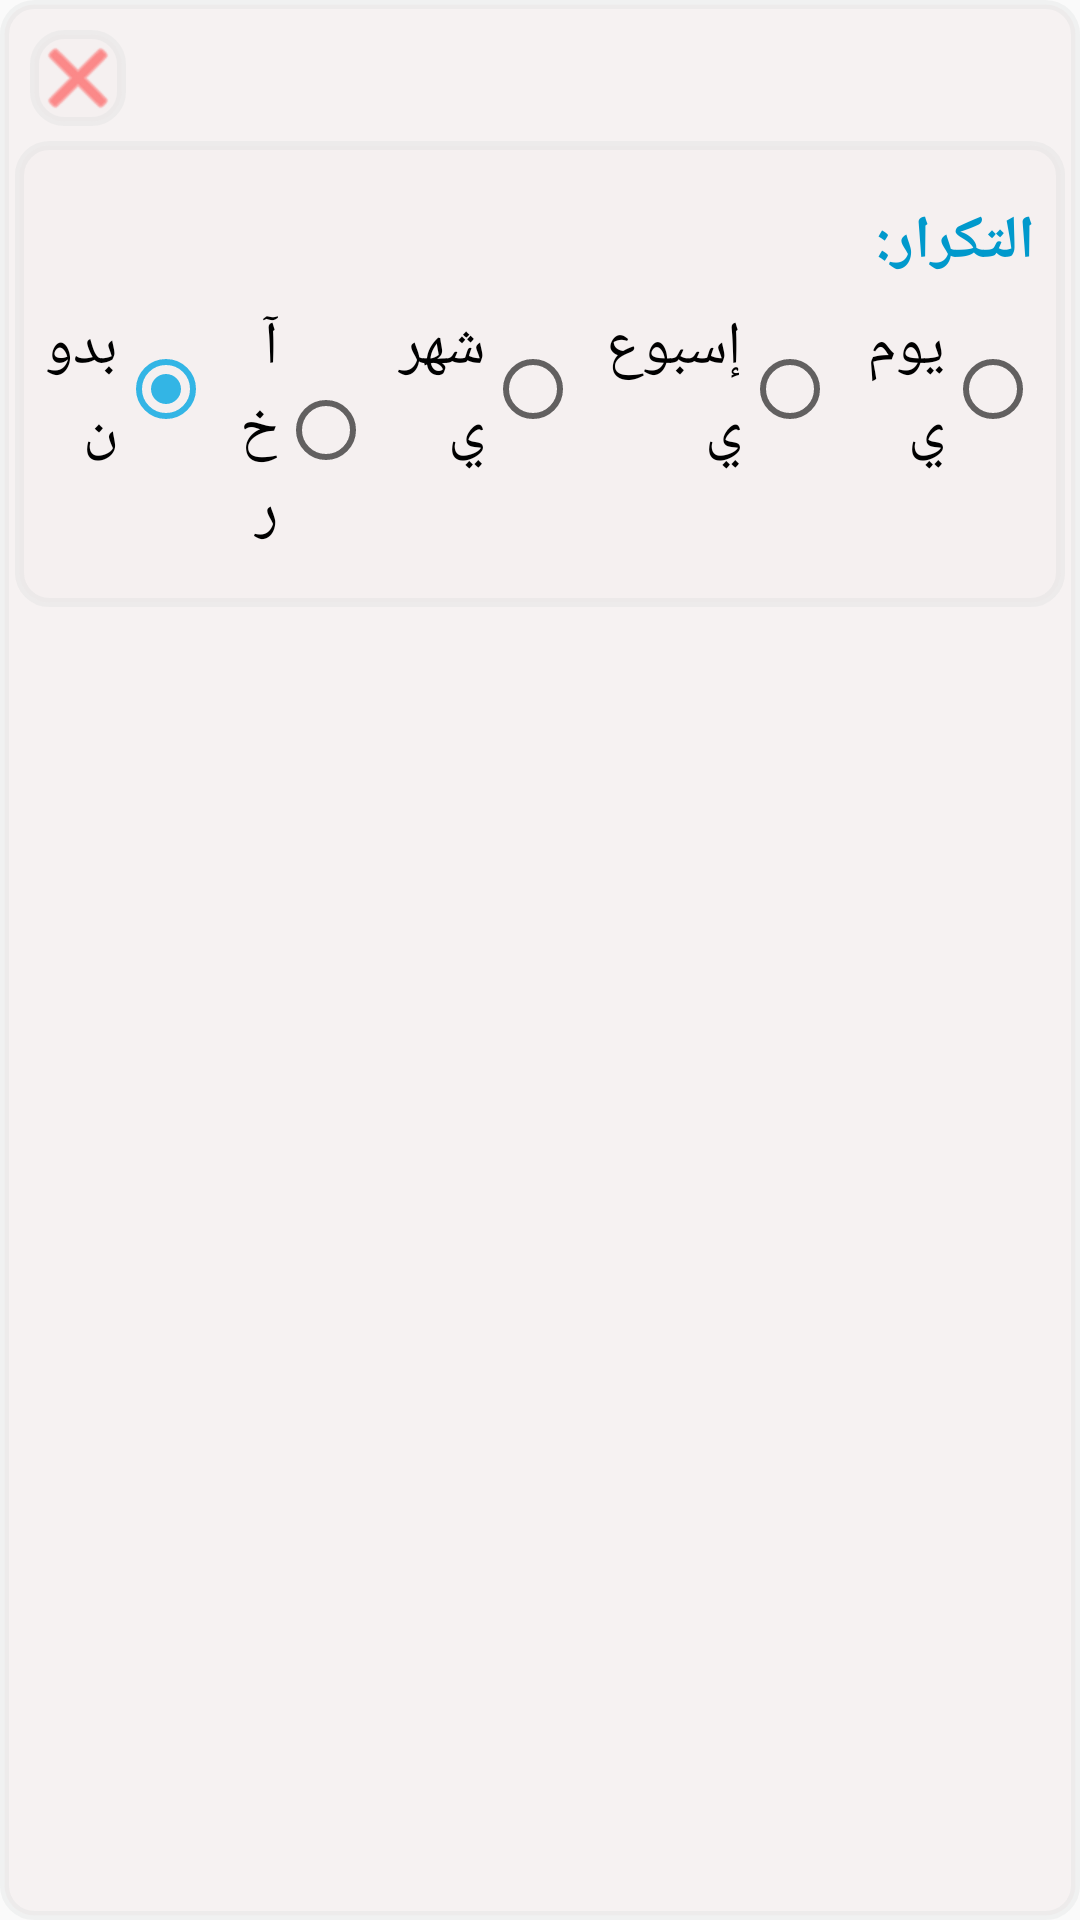

Icons on this 1080 x 1920 Android screen, each with its box as Rect(x1, y1, x2, y2):
حذف: Rect(48, 48, 108, 108)
